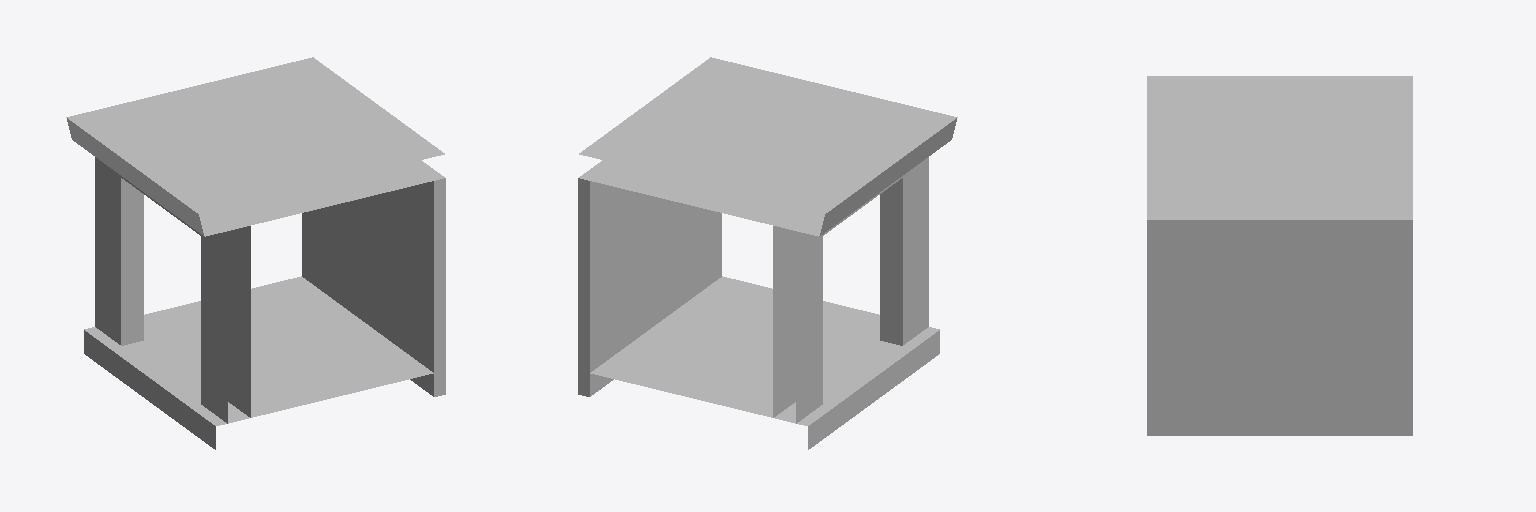
3 views of the same model, side by side, from view 1: azimuth 30°, elevation 25°; view 2: azimuth 150°, elevation 25°; view 3: azimuth 270°, elevation 25° (orthographic).
Visible parts, largest first — view 1: objobjobjDuplicate422b; view 2: objobjobjDuplicate422b; view 3: objobjobjDuplicate422b.
Boxes of the visible parts, x1,y1,x2,y2 form: objobjobjDuplicate422b: [66, 57, 445, 449]; objobjobjDuplicate422b: [578, 57, 957, 449]; objobjobjDuplicate422b: [1147, 76, 1412, 435].
Bounding box in the file's own units: 10.75 × 10 × 10.